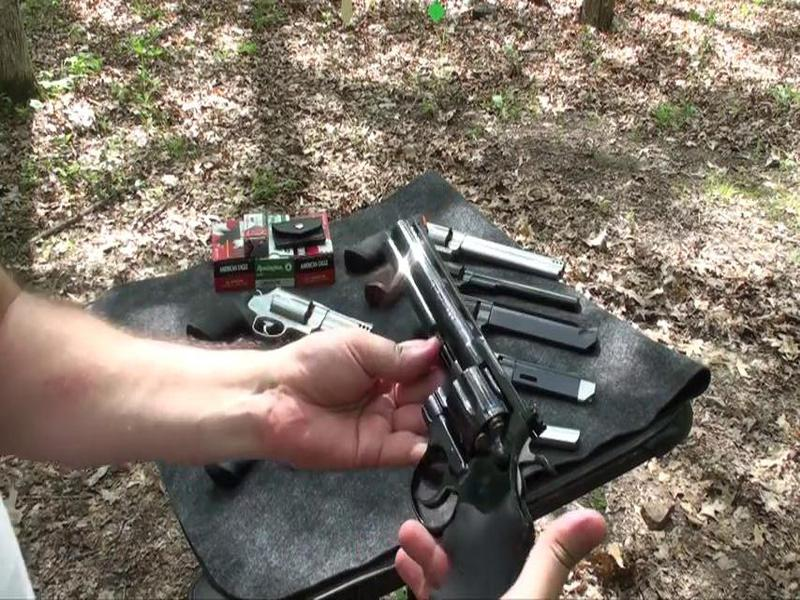Revolver: (340, 214, 548, 595)
